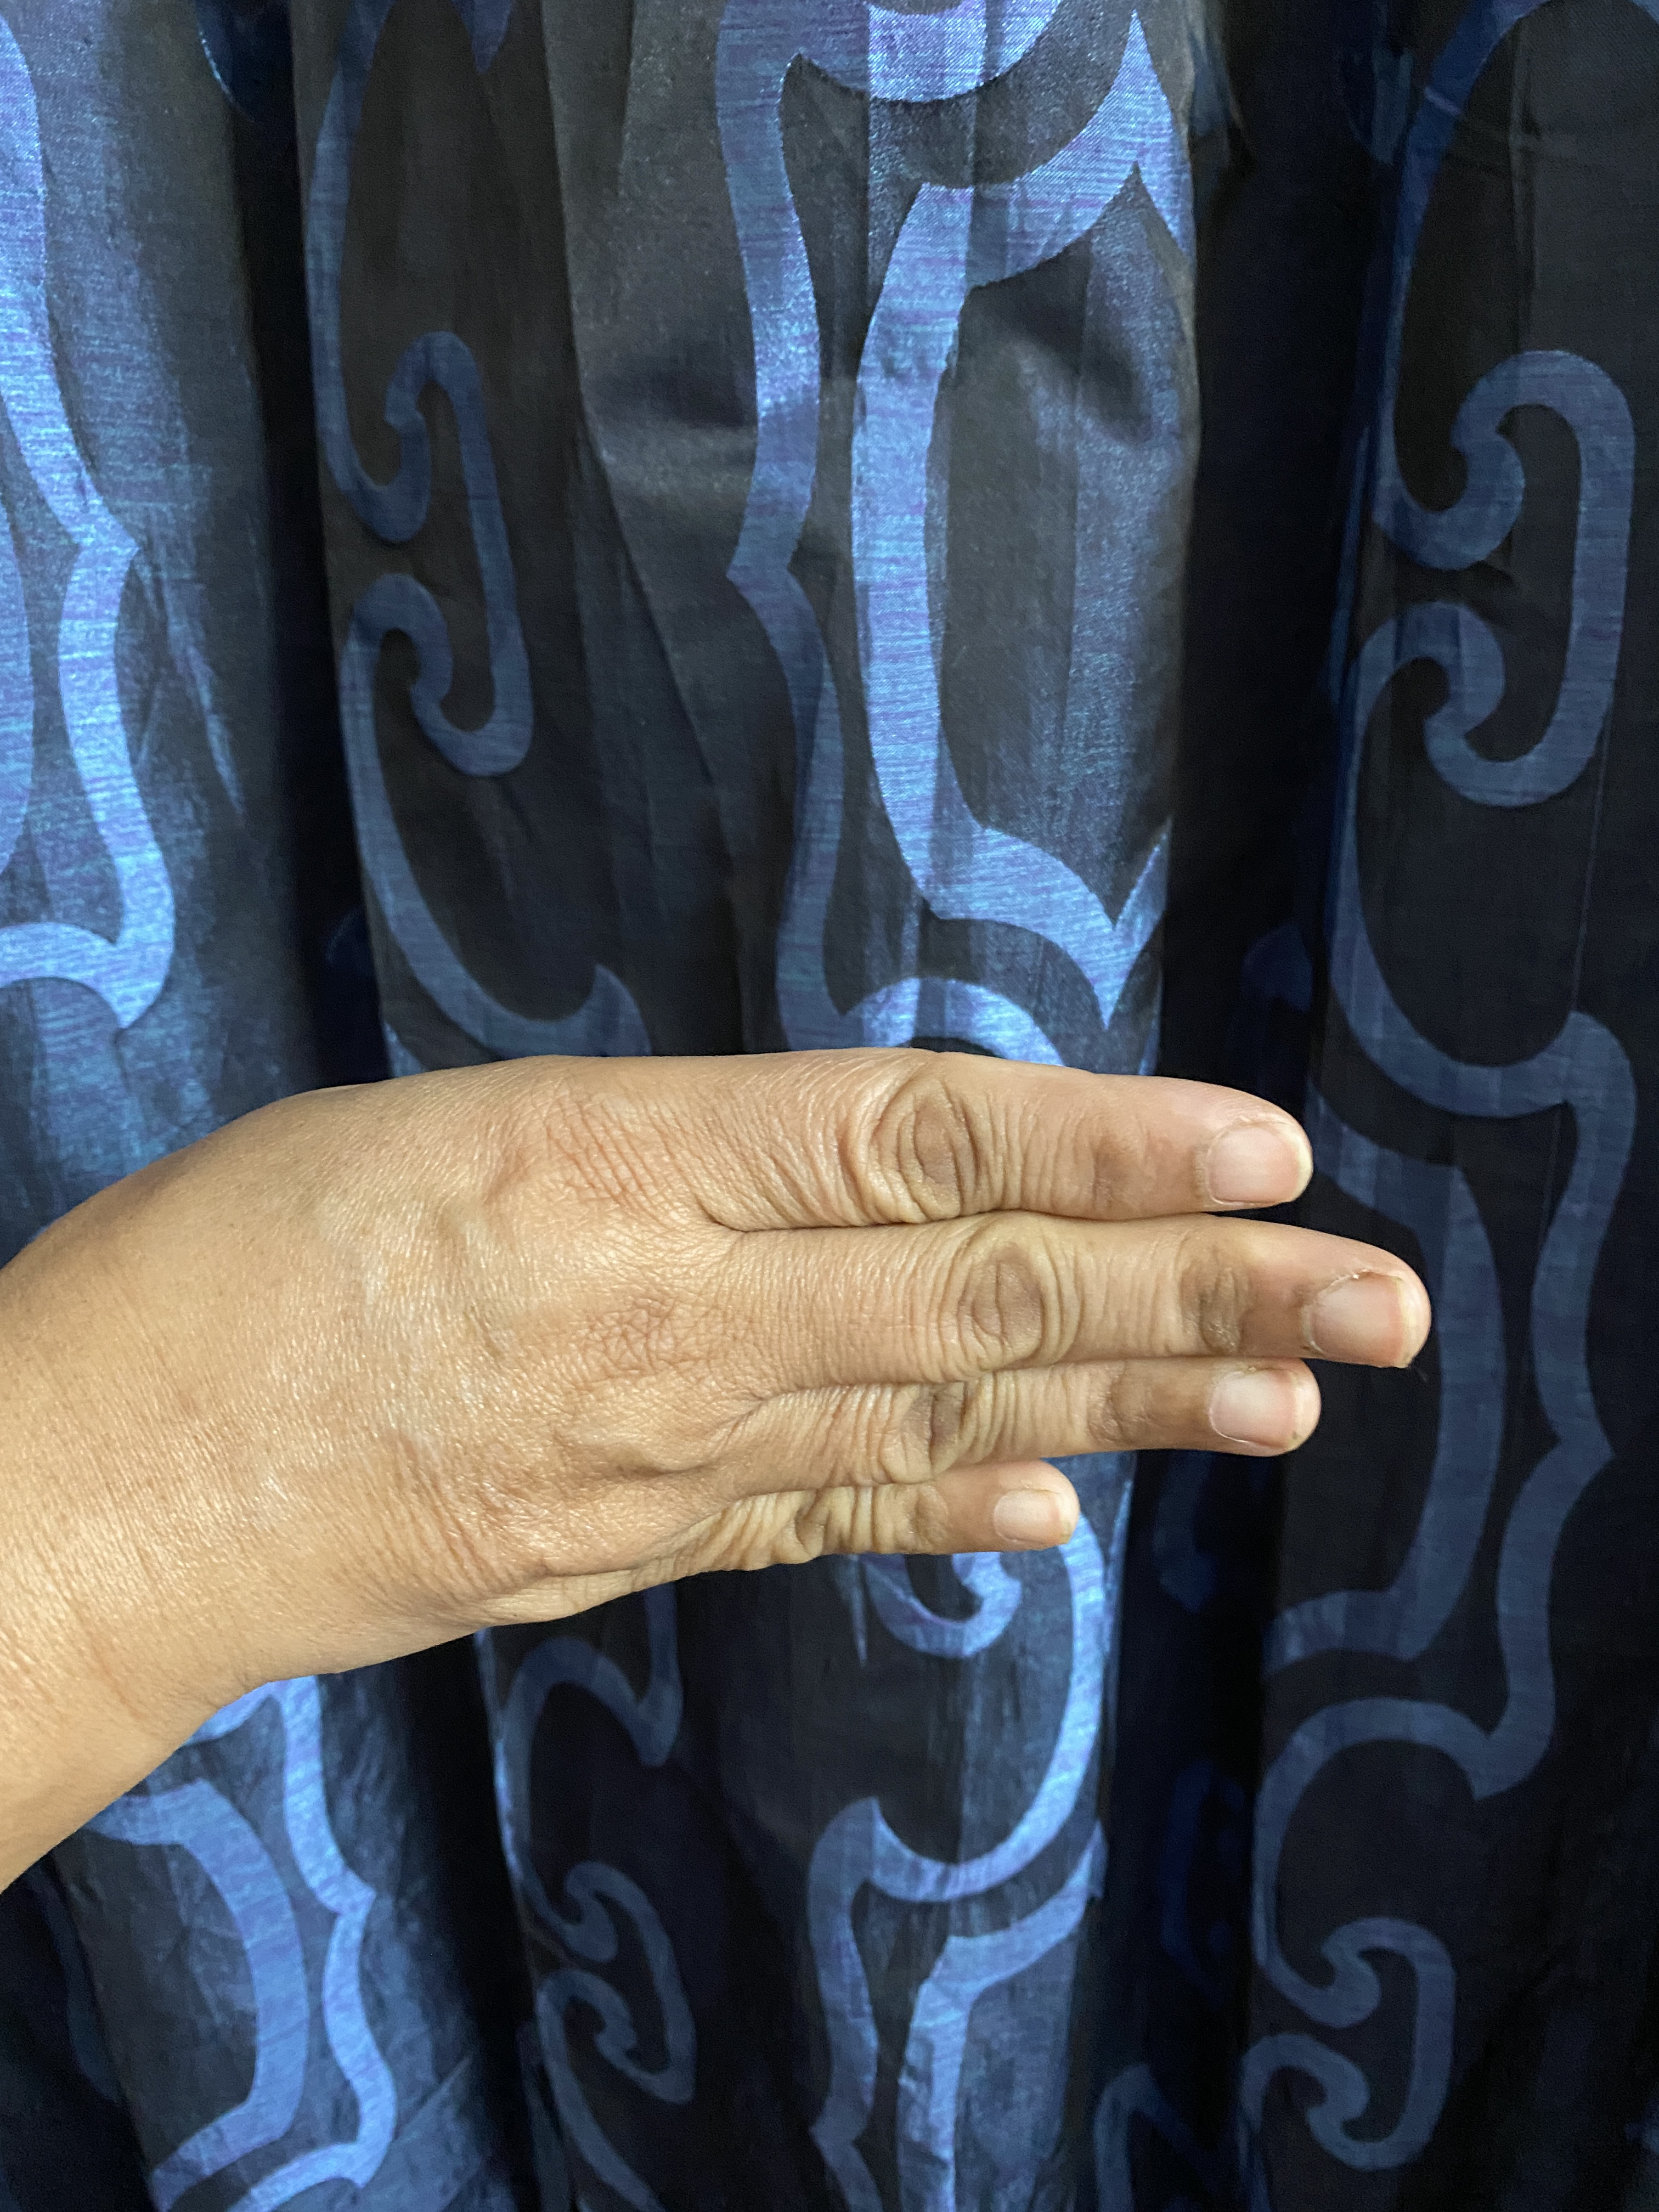left: (5, 932, 1520, 1897)
